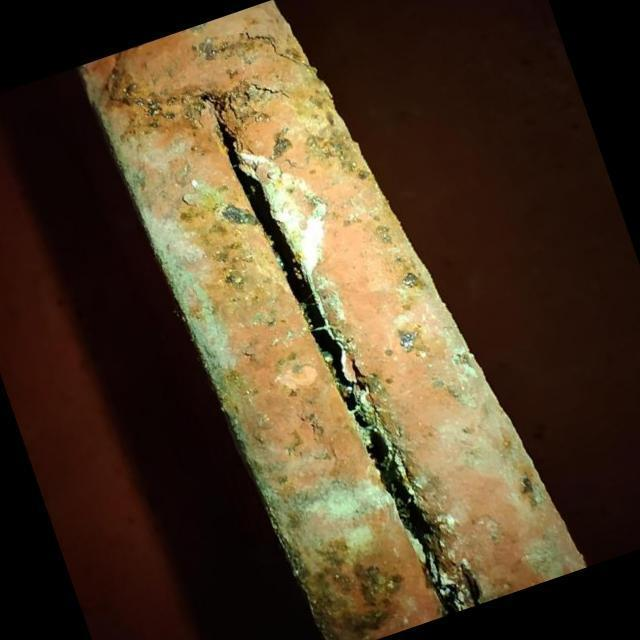defect: (213, 114, 477, 615), (240, 27, 302, 65), (247, 80, 293, 99)
